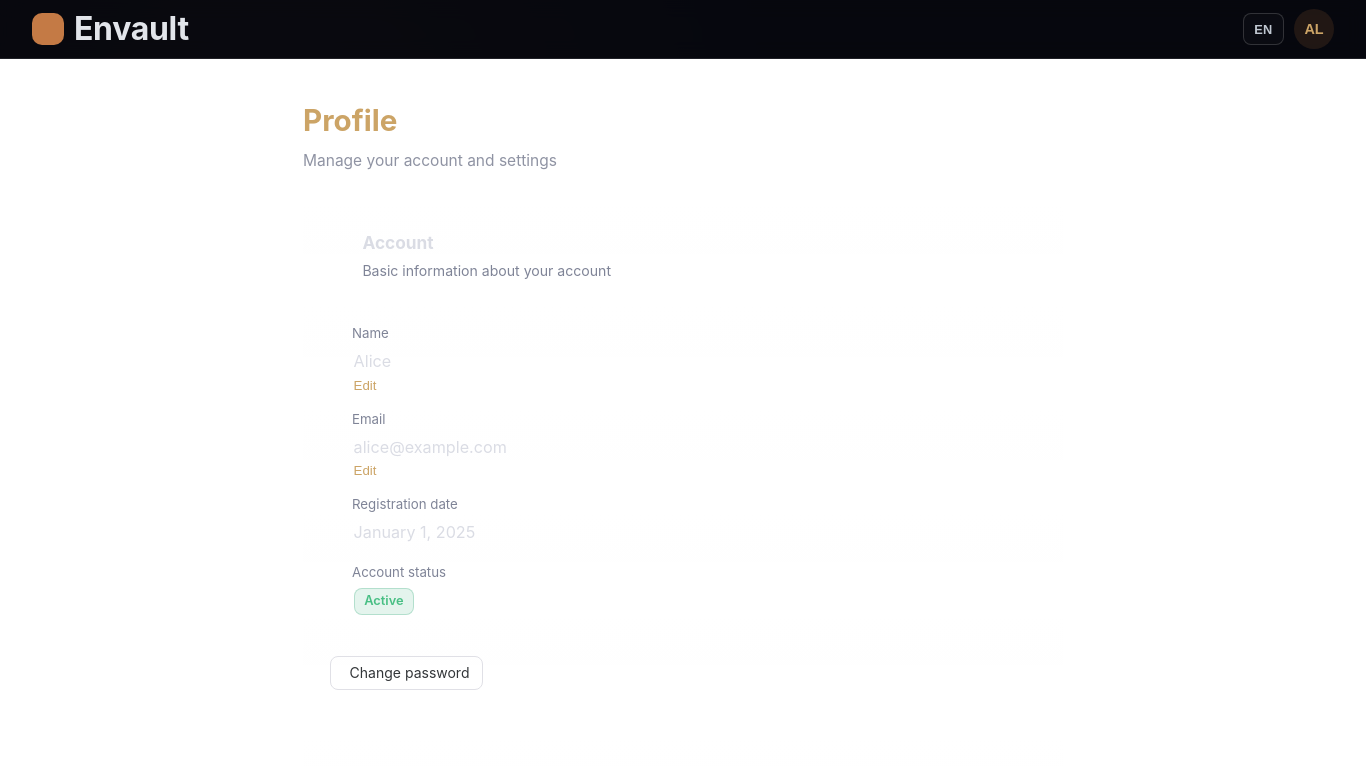
Test: ProfileView.vue › email form › shows the exact retry countdown when rate-limited
This screenshot has width=1366, height=766.
Click the button with class "edit-link" below "alice@example.com": (365, 470) left=354, top=463, right=376, bottom=478
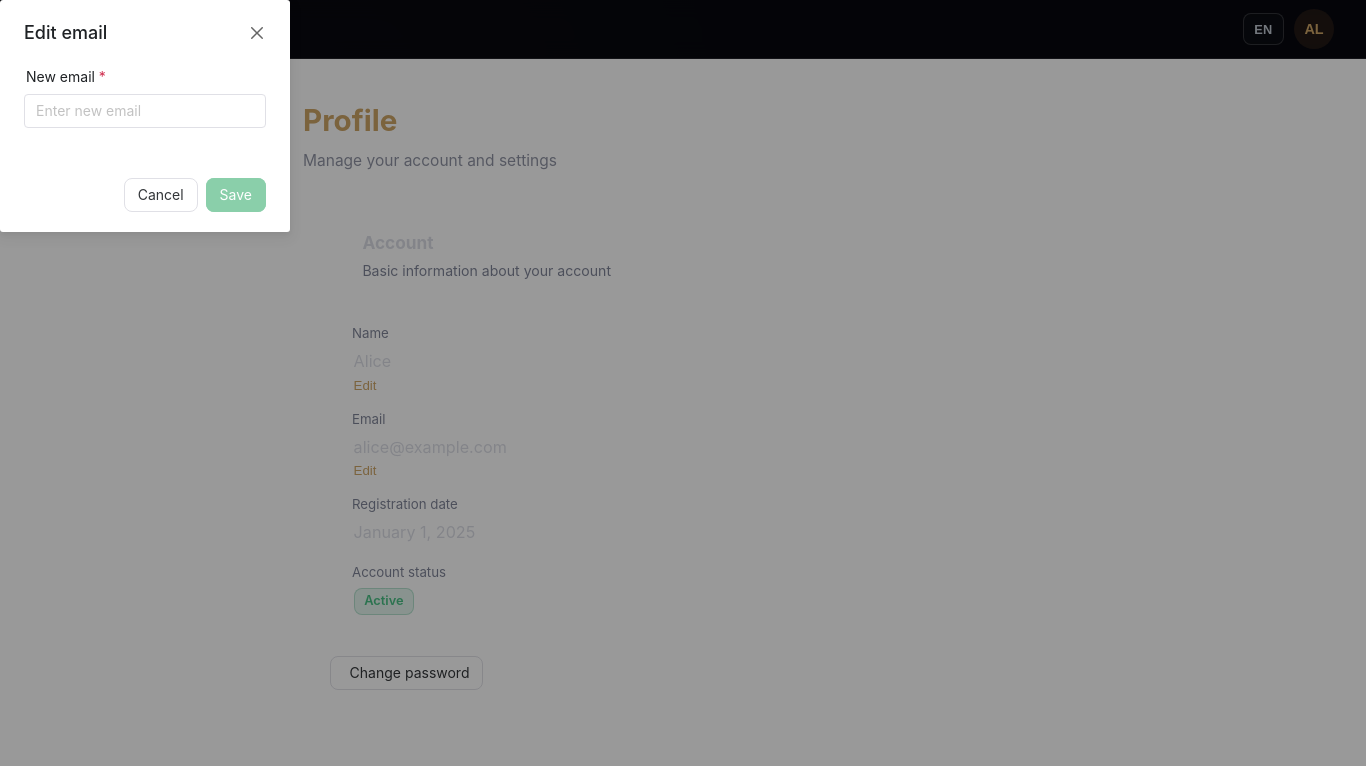
In the field with placeholder "Enter new email": (145, 111) left=36, top=94, right=254, bottom=128, type "new@example.com"
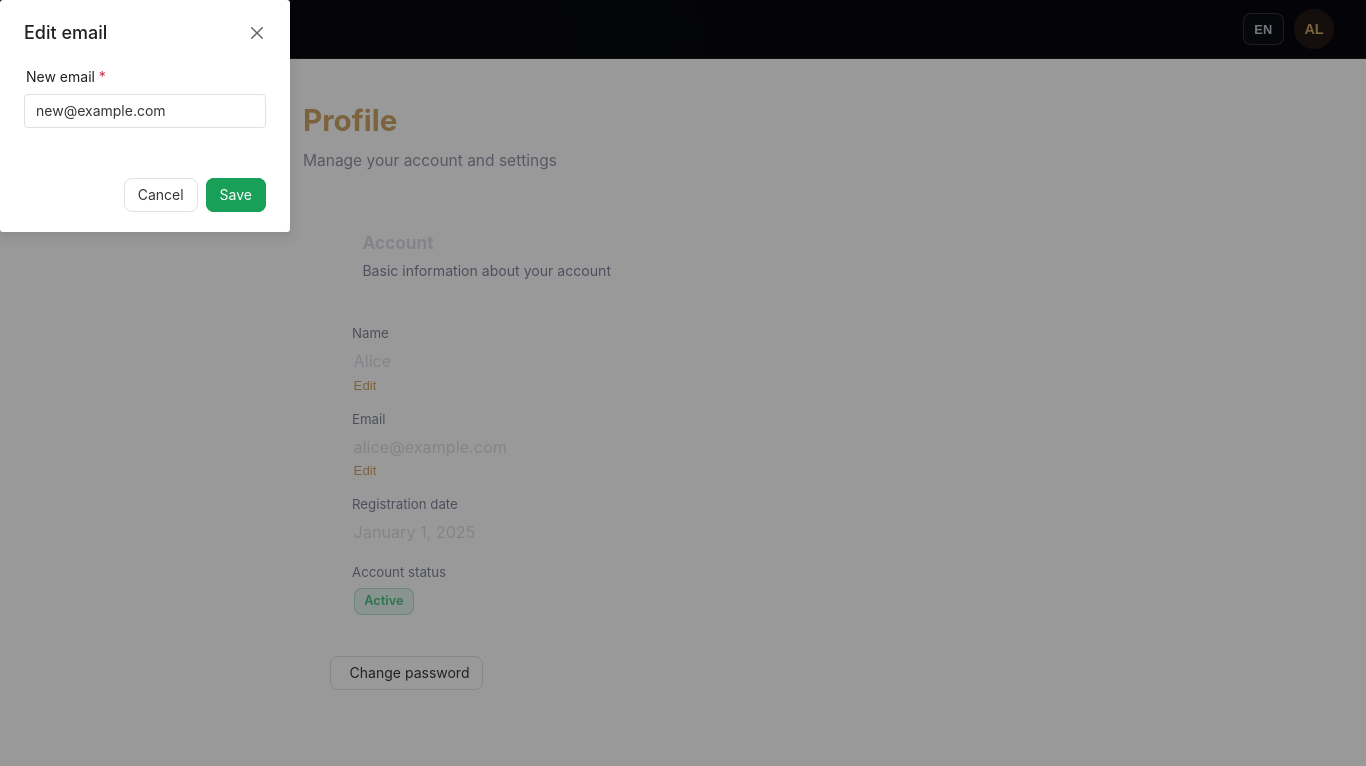
Click the button "Save": (236, 195) left=206, top=178, right=266, bottom=212
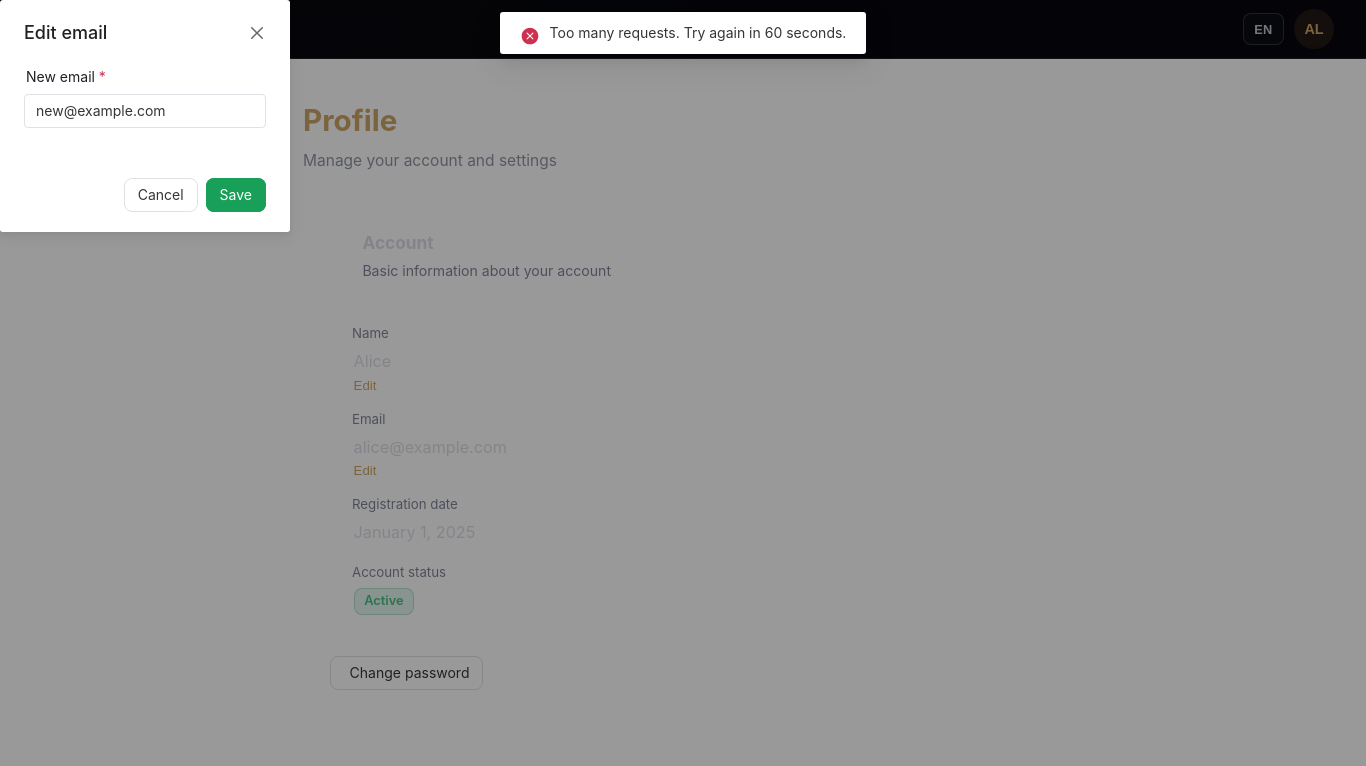
Expected: the text "Try again in 60 seconds" is shown, left=550, top=24, right=846, bottom=41
